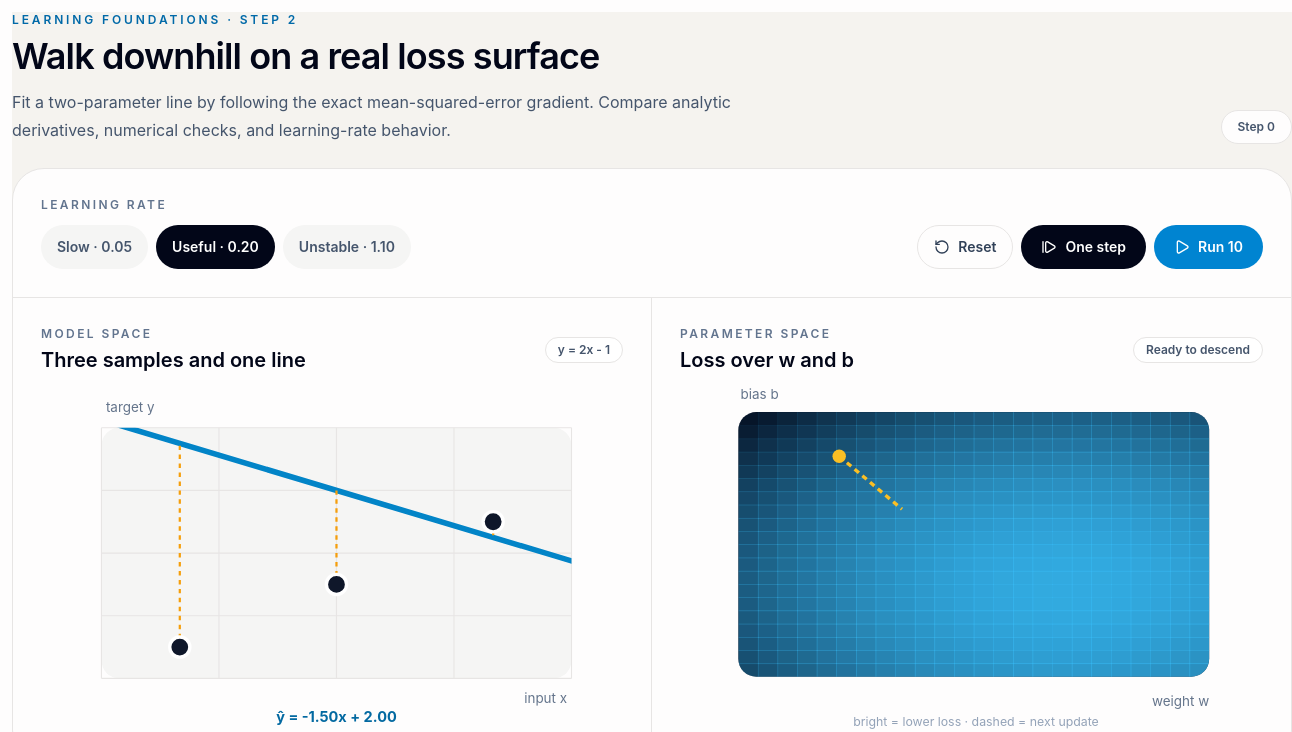
Test case: GradientDescentLabPage › runs multiple steps and demonstrates an unstable learning rate
The width and height of the screenshot is (1292, 732).
Click the button with test id "gradient-run-ten" at coordinates (1208, 247), box x1=1154 y1=225 x2=1263 y2=269
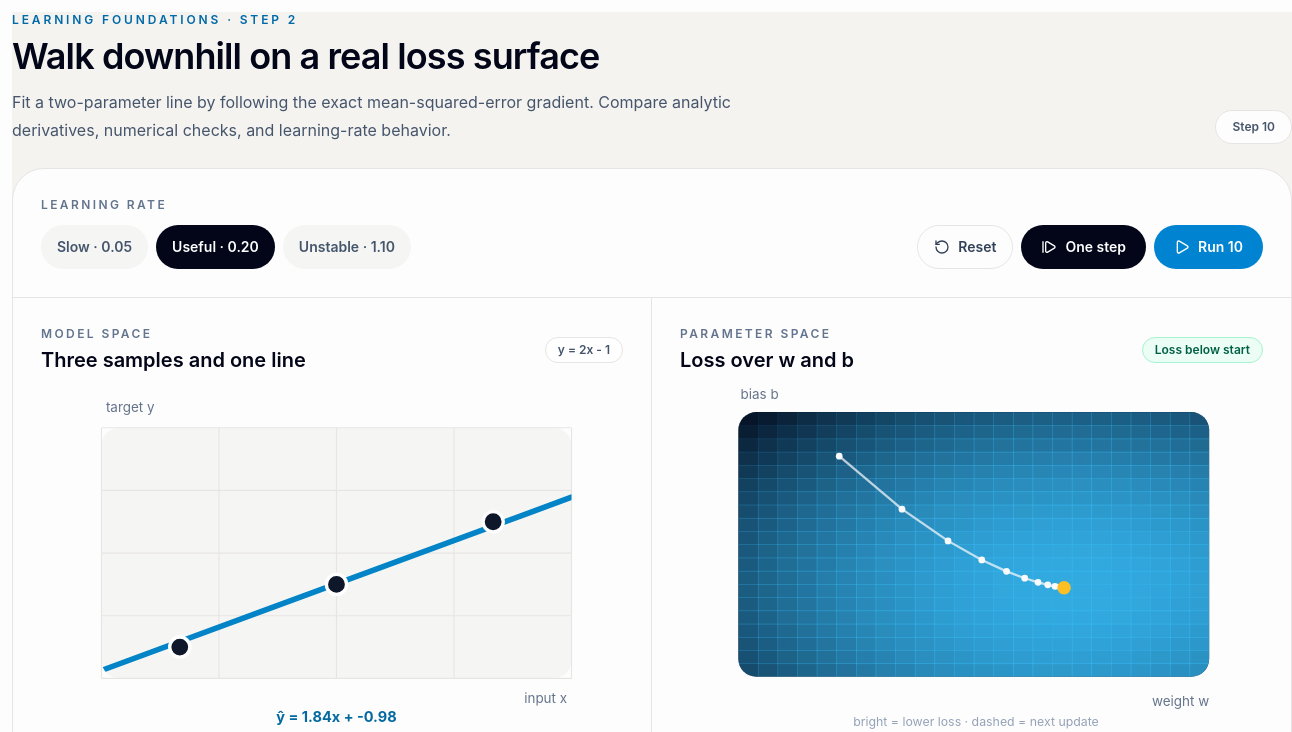
Now the text "Step 10" is shown, box x1=1216 y1=110 x2=1291 y2=144
Click the button with test id "gradient-rate-1.1" at coordinates (347, 247), box x1=283 y1=225 x2=411 y2=269
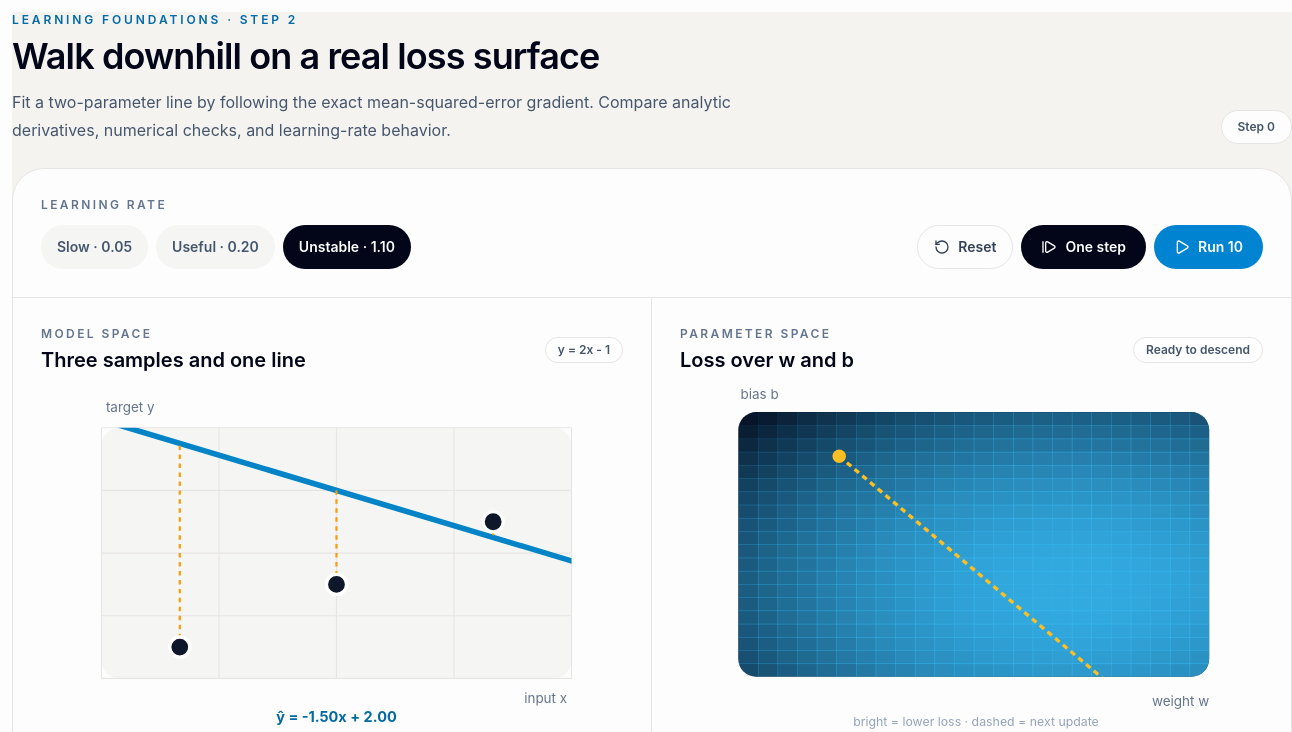
Click the button with test id "gradient-run-ten" at coordinates (1208, 247), box x1=1154 y1=225 x2=1263 y2=269
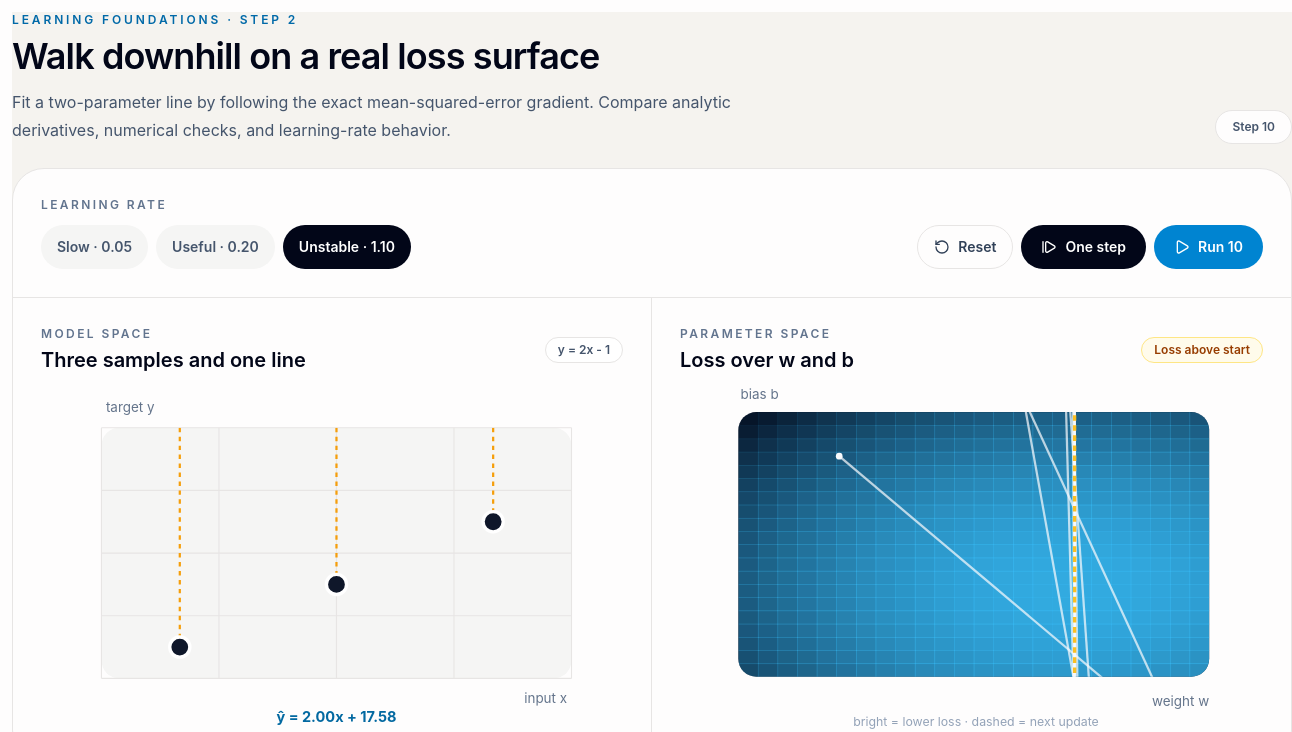
Now the text "Loss above start" is shown, box x1=1141 y1=337 x2=1263 y2=363
